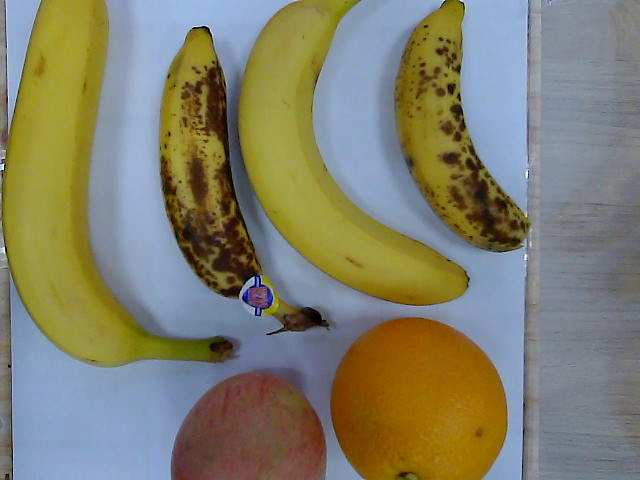fresh_apple: (172, 372, 330, 480)
fresh_banana: (239, 3, 472, 306), (3, 1, 154, 368)
fresh_orange: (334, 319, 509, 480)
rotten_banana: (160, 26, 329, 335), (394, 1, 533, 254)
